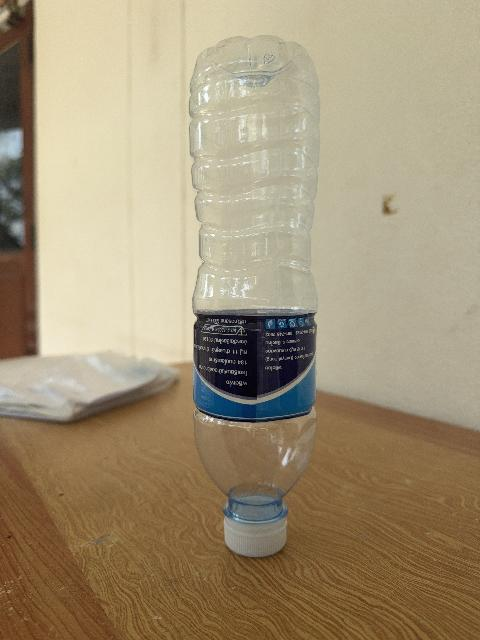bottle: (190, 36, 319, 556)
